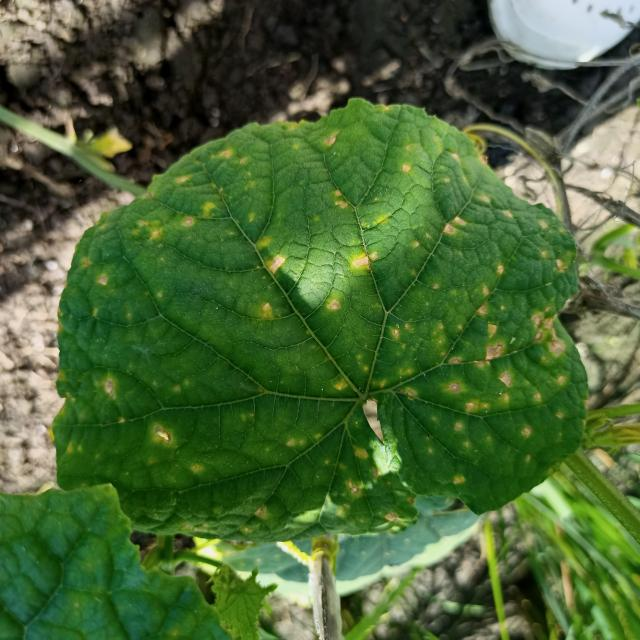disease_cucumber: (68, 122, 574, 542)
